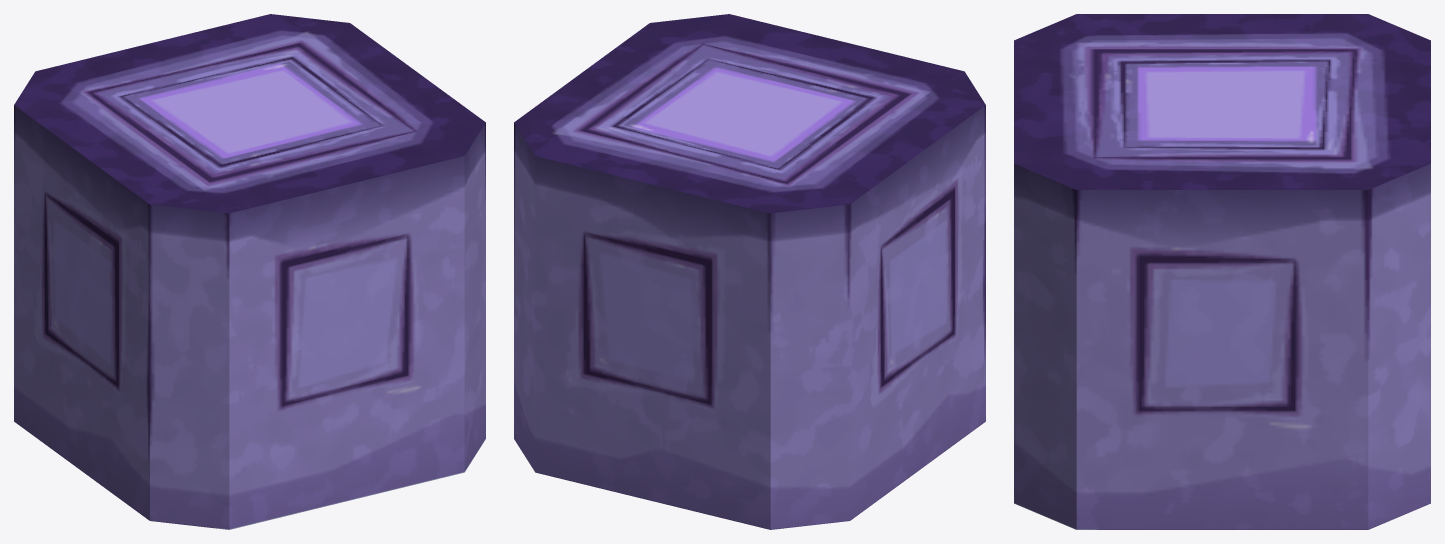
The model's file is Rock_Mov_003.fbx.
The picture shows the model from 3 angles, left to right: view 1: azimuth 30°, elevation 25°; view 2: azimuth 150°, elevation 25°; view 3: azimuth 270°, elevation 25°; orthographic projection. The views are drawn at different scales.
Parts seen in each view (by area): view 1: Rock_Mov_003; view 2: Rock_Mov_003; view 3: Rock_Mov_003.
Part boxes in pixels (x1=…): Rock_Mov_003: x1=14, y1=14, x2=485, y2=529; Rock_Mov_003: x1=514, y1=14, x2=985, y2=529; Rock_Mov_003: x1=1014, y1=14, x2=1430, y2=529.
Bounding box in the file's own units: 2 × 1.8 × 2.
1 material, 1 textured.
